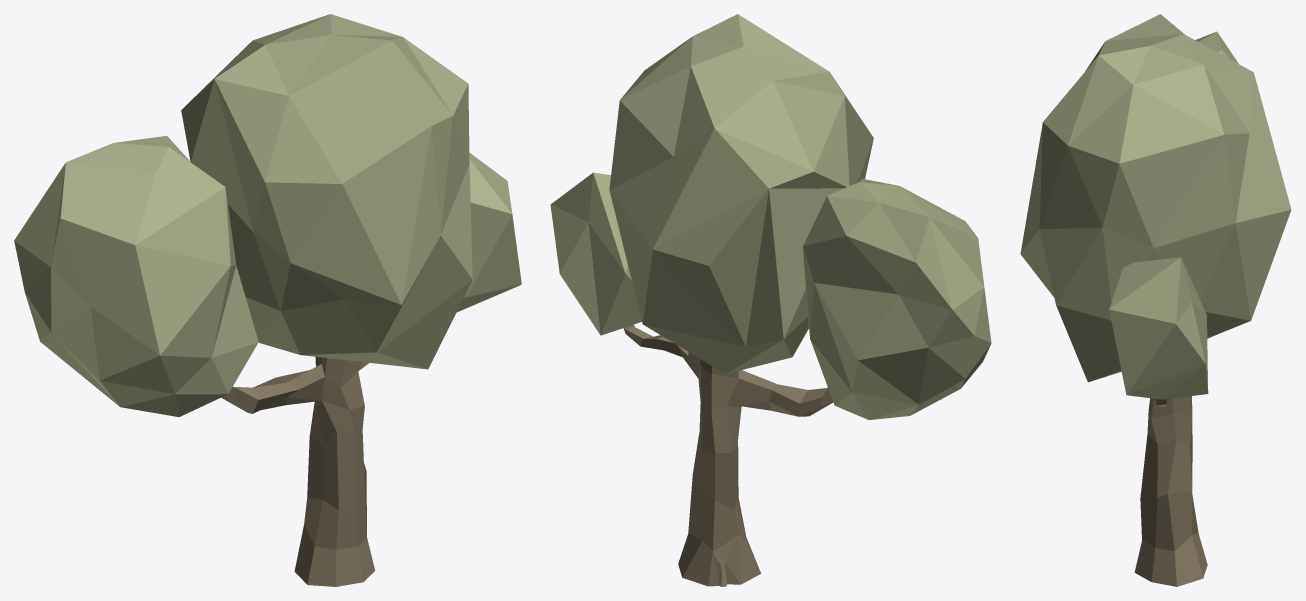
Rendered from Tree04.fbx.
3 views of the same model, side by side, from view 1: azimuth 30°, elevation 25°; view 2: azimuth 150°, elevation 25°; view 3: azimuth 270°, elevation 25° (orthographic). The views are drawn at different scales.
Parts seen in each view (by area): view 1: Leaves01, Leaves02, Trunk; view 2: Leaves01, Leaves02, Trunk; view 3: Leaves01, Trunk, Leaves02.
Boxes of the visible parts, box(x1,y1,x2,y2) form: Leaves01: box(181, 14, 521, 369); Leaves02: box(14, 136, 258, 416); Trunk: box(221, 356, 375, 586); Leaves01: box(550, 14, 873, 373); Leaves02: box(802, 178, 991, 419); Trunk: box(623, 324, 833, 586); Leaves01: box(1020, 14, 1291, 399); Trunk: box(1134, 396, 1207, 586); Leaves02: box(1195, 31, 1238, 63).
Size of the model in its own units: 8.01 by 9.12 by 4.29.
